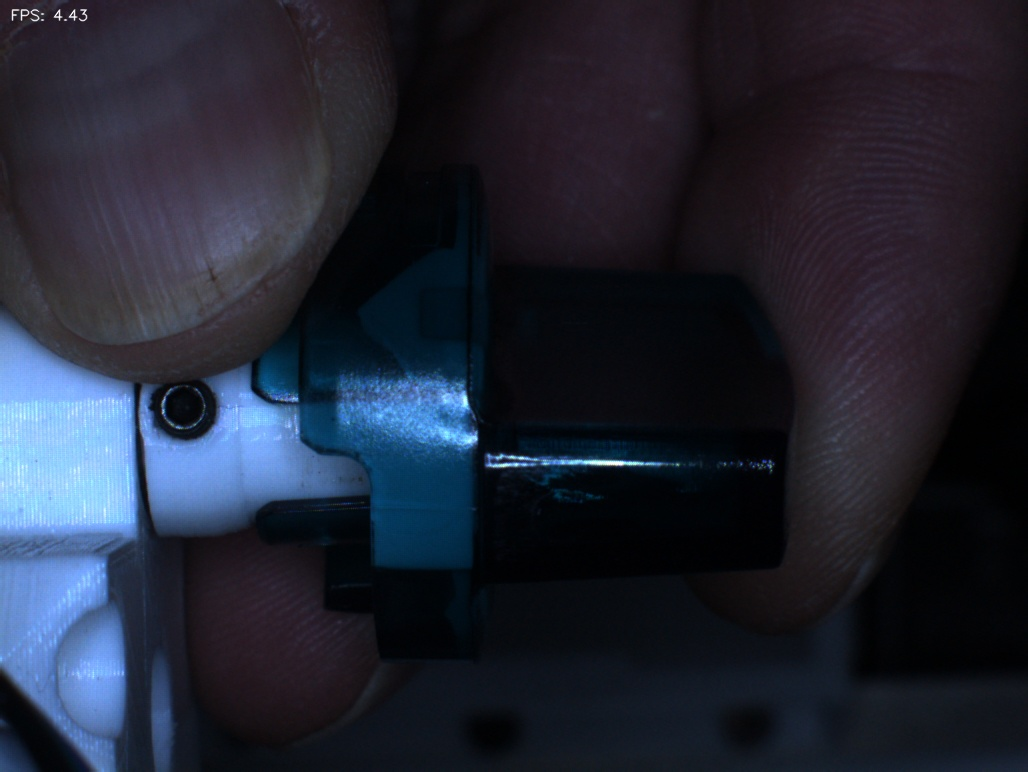DentOk: (332, 270, 408, 356)
